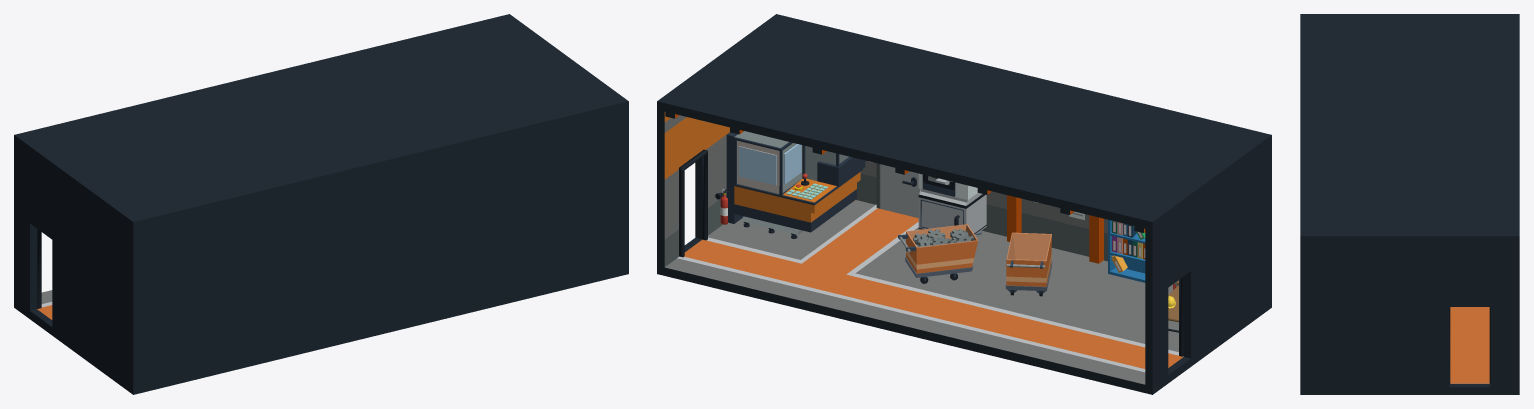
File: Room_machining_001.fbx
The picture shows the model from 3 angles, left to right: view 1: azimuth 30°, elevation 25°; view 2: azimuth 150°, elevation 25°; view 3: azimuth 270°, elevation 25°; orthographic projection. The views are drawn at different scales.
Parts seen in each view (by area): view 1: Room_large_001.002; view 2: Room_large_001.002; view 3: Room_large_001.002.
Boxes of the visible parts, x1,y1,x2,y2 form: Room_large_001.002: (14, 14, 628, 394); Room_large_001.002: (657, 14, 1271, 394); Room_large_001.002: (1300, 14, 1519, 394).
Bounding box in the file's own units: 1200 × 400 × 500.
